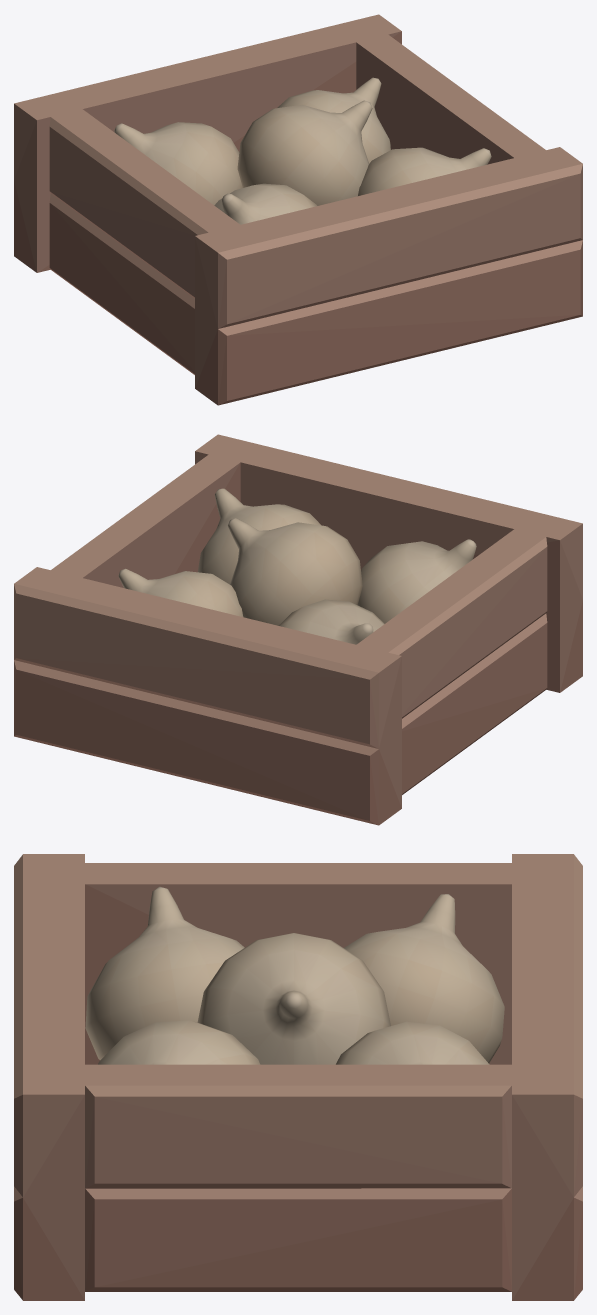
File: caixote_cebola.fbx
3 renders of one model, top to bottom at view 1: azimuth 30°, elevation 25°; view 2: azimuth 150°, elevation 25°; view 3: azimuth 270°, elevation 25°, orthographic. The views are drawn at different scales.
Visible parts, largest first — view 1: crate_onions; view 2: crate_onions; view 3: crate_onions.
Part boxes in pixels (x1=…): crate_onions: x1=14, y1=14, x2=582, y2=405; crate_onions: x1=14, y1=434, x2=582, y2=825; crate_onions: x1=14, y1=854, x2=582, y2=1300.
Bounding box in the file's own units: 200 × 92.34 × 200.
